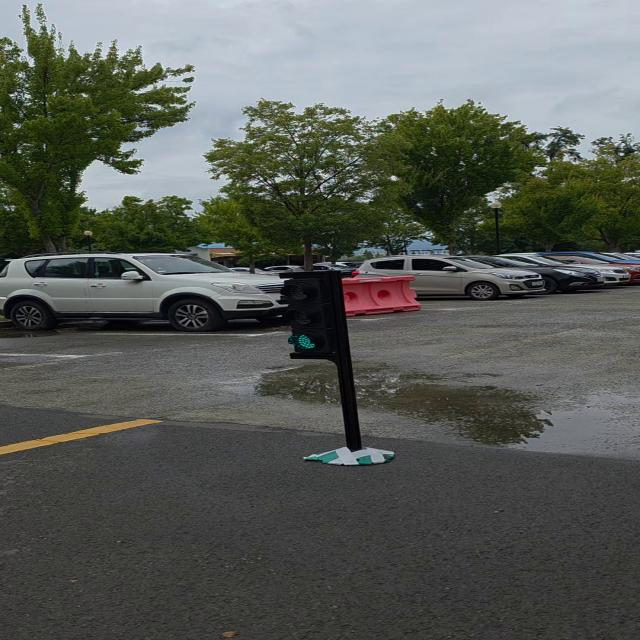green: (276, 272, 352, 360)
